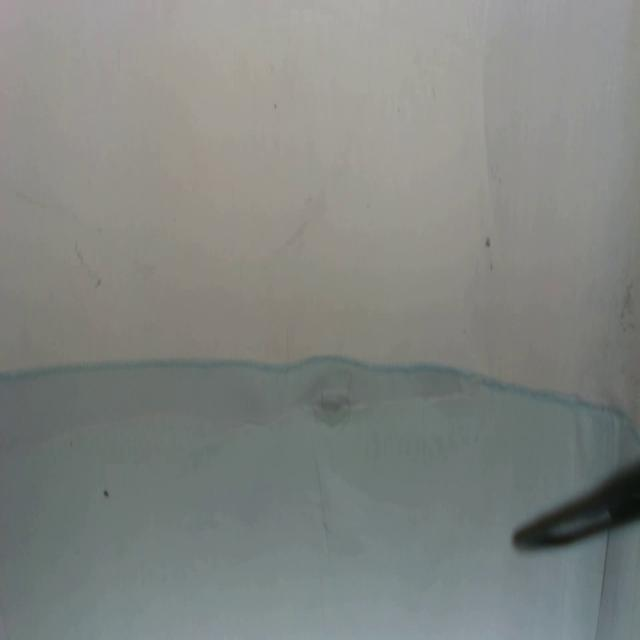crease: (594, 532, 611, 640)
hole: (483, 235, 493, 250), (365, 202, 373, 214), (104, 488, 110, 502), (488, 260, 494, 274), (272, 100, 278, 112), (394, 107, 402, 116), (69, 438, 74, 451)
